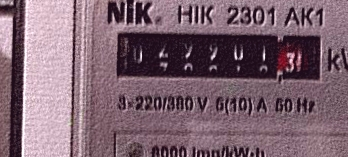0: (231, 38, 246, 63), (130, 42, 145, 64)
1: (258, 39, 270, 63)
2: (156, 38, 171, 60)
3: (282, 51, 298, 74)
9: (207, 40, 219, 63), (182, 38, 194, 59)
screen: (108, 25, 330, 91)
